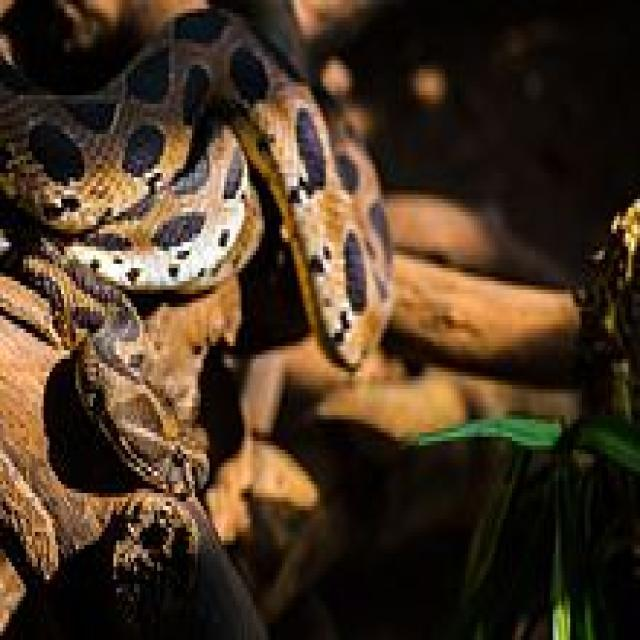Snake: (0, 0, 390, 502)
